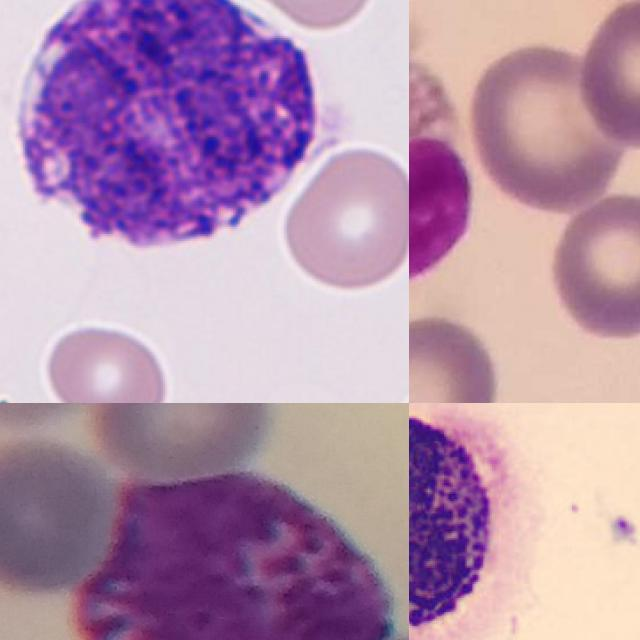Basophil: (0, 0, 367, 268), (72, 468, 395, 640), (409, 403, 534, 640)
Eosinophil: (409, 30, 473, 320)
RBC: (278, 142, 409, 294), (38, 317, 175, 403), (210, 0, 381, 32)
